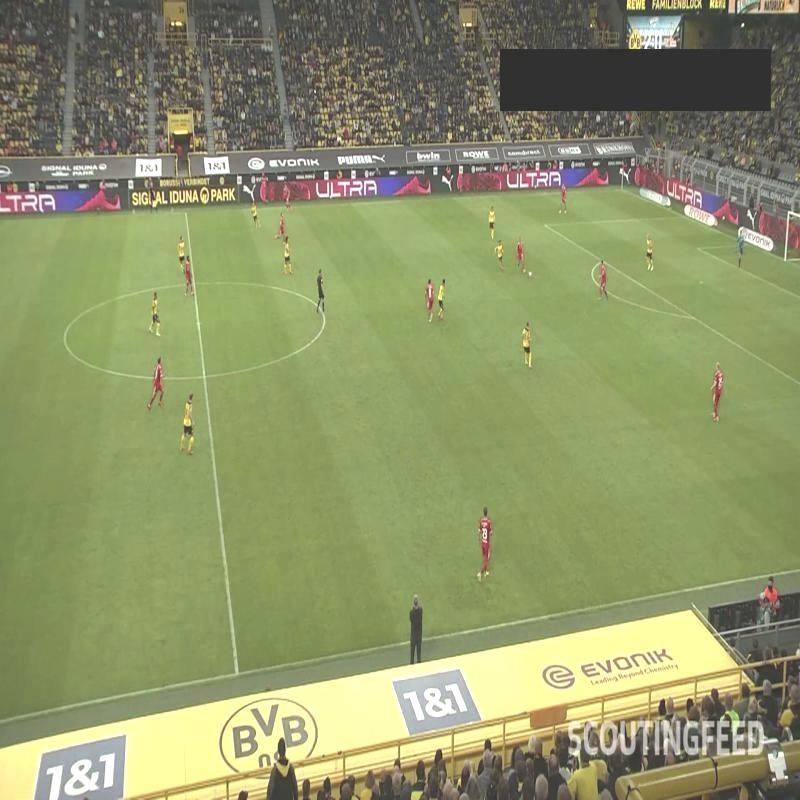1: (614, 183, 628, 197)
10: (594, 252, 608, 266)
11: (687, 311, 701, 325)
13: (178, 204, 194, 220)
14: (186, 278, 200, 292)
15: (197, 368, 213, 384)
16: (227, 663, 246, 685)
2: (678, 210, 692, 224)
3: (742, 238, 756, 252)
7: (692, 242, 706, 256)
9: (538, 218, 552, 232)
c: (316, 310, 332, 324), (57, 332, 71, 346)
